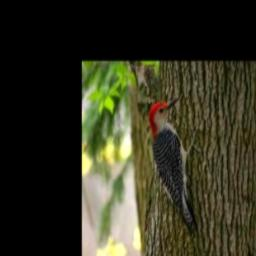Woodpecker: (149, 96, 201, 228)
